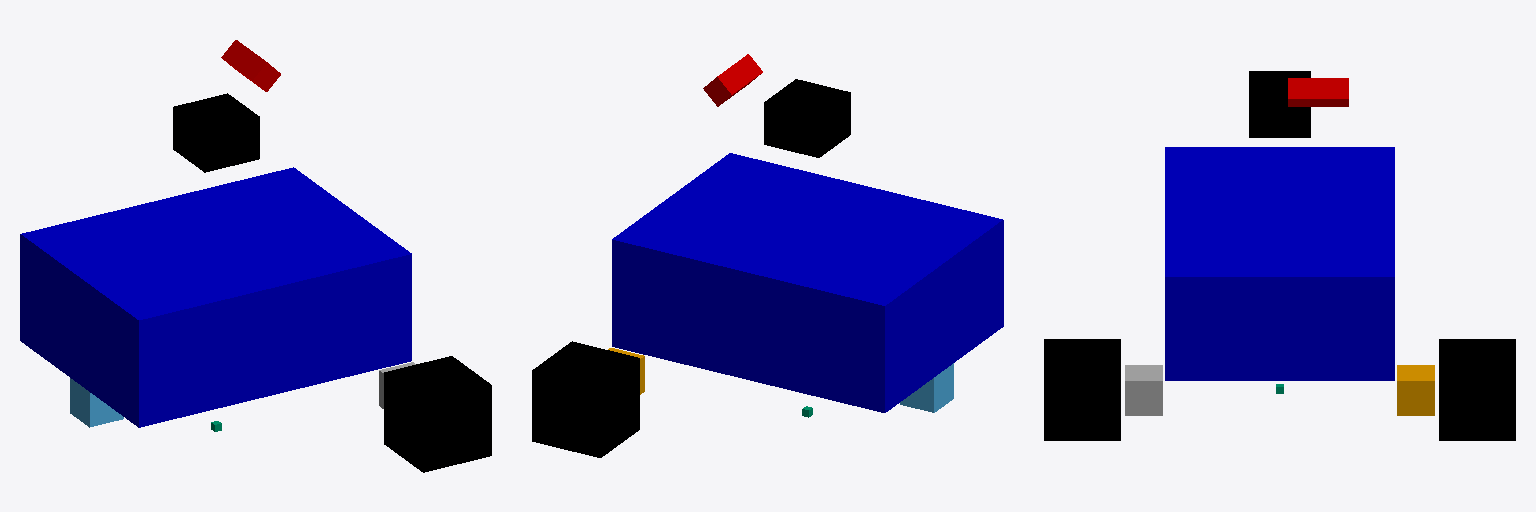
robot.urdf — nano_atrv:
<?xml version="1.0"?>
<robot name="nano_atrv">

    <link name="base_link">
        <visual>
            <geometry>
                <box size="0.4 0.3 0.15"/>
            </geometry>
            <material name="blue">
                <color rgba="0 0 0.8 1"/>
            </material>
        </visual>
    </link>

    <link name="base_link_arm">
        <visual>
            <geometry>
                <box size="0.05 0.05 0.1"/>
            </geometry>
            <material name="grey">
                <color rgba="0.5 0.5 0.5 1"/>
            </material>
        </visual>
    </link>

    <link name="base_footprint">
        <visual>
            <geometry>
                <box size="0.01 0.01 0.01"/>
            </geometry>
        </visual>
    </link>

    <link name="laser">
        <visual>
            <geometry>
                <box size="0.08 0.08 0.06"/>
            </geometry>
            <material name="black">
                <color rgba="0 0 0 1"/>
            </material>
        </visual>
    </link>

    <link name="camera_link">
        <visual>
            <geometry>
                <box size="0.03 0.08 0.03"/>
            </geometry>
            <material name="red">
                <color rgba="0.8 0 0 1"/>
            </material>
        </visual>
    </link>

    <link name="left_wheel">
        <visual>
            <geometry>
                <box size="0.1 0.1 0.1"/>
            </geometry>
            <material name="black"/>
        </visual>
    </link>

    <link name="right_wheel">
        <visual>
            <geometry>
                <box size="0.1 0.1 0.1"/>
            </geometry>
            <material name="black"/>
        </visual>
    </link>

    <link name="right_wheel_link">
        <visual>
            <geometry>
                <box size="0.05 0.05 0.05"/>
            </geometry>
        </visual>
    </link>

    <link name="left_wheel_link">
        <visual>
            <geometry>
                <box size="0.05 0.05 0.05"/>
            </geometry>
        </visual>
    </link>

    <link name="rear_wheel_link">
        <visual>
            <geometry>
                <box size="0.05 0.05 0.05"/>
            </geometry>
        </visual>
    </link>

    <link name="left_steer_link">
        <visual>
            <geometry>
                <box size="0.05 0.05 0.05"/>
            </geometry>
        </visual>
    </link>

    <link name="right_steer_link">
        <visual>
            <geometry>
                <box size="0.05 0.05 0.05"/>
            </geometry>
        </visual>
    </link>

    <link name="rear_steer_link">
        <visual>
            <geometry>
                <box size="0.05 0.05 0.05"/>
            </geometry>
        </visual>
    </link>

    <joint name="base_footprint_to_base_link" type="fixed">
        <parent link="base_footprint"/>
        <child link="base_link"/>
        <origin xyz="0 0 0.18" rpy="0 0 0"/>
    </joint>

    <joint name="base_link_to_laser" type="fixed">
        <parent link="base_link"/>
        <child link="laser"/>
        <origin xyz="0 0 0.23" rpy="0 3.1415 0"/>
    </joint>

    <joint name="base_link_to_camera_link" type="fixed">
        <parent link="base_link"/>
        <child link="camera_link"/>
        <origin xyz="0.08 0.05 0.285" rpy="0 0.8029 0"/>
    </joint>

    <joint name="base_link_to_arm" type="fixed">
        <parent link="base_link"/>
        <child link="base_link_arm"/>
        <origin xyz="0.145 0 0" rpy="0 0 0"/>
    </joint>

    <joint name="base_link_to_left_steer" type="fixed">
        <parent link="base_link"/>
        <child link="left_steer_link"/>
        <origin xyz="0.175 0.1775 -0.1" rpy="0 0 0"/>
    </joint>

    <joint name="base_link_to_right_steer" type="fixed">
        <parent link="base_link"/>
        <child link="right_steer_link"/>
        <origin xyz="0.175 -0.1775 -0.1" rpy="0 0 0"/>
    </joint>

    <joint name="base_link_to_rear_steer" type="fixed">
        <parent link="base_link"/>
        <child link="rear_steer_link"/>
        <origin xyz="-0.175 0 -0.1" rpy="0 0 0"/>
    </joint>


    <joint name="left_steer_joint" type="revolute">
        <parent link="left_steer_link"/>
        <child link="left_wheel_link"/>
        <origin xyz="0 0 0" rpy="0 0 0"/>
        <axis xyz="0 0 1"/>
        <limit lower="-1.57" upper="1.57" effort="10" velocity="2"/>
    </joint>

    <joint name="right_steer_joint" type="revolute">
        <parent link="right_steer_link"/>
        <child link="right_wheel_link"/>
        <origin xyz="0 0 0" rpy="0 0 0"/>
        <axis xyz="0 0 1"/>
        <limit lower="-1.57" upper="1.57" effort="10" velocity="2"/>
    </joint>

    <joint name="rear_steer_joint" type="revolute">
        <parent link="rear_steer_link"/>
        <child link="rear_wheel_link"/>
        <origin xyz="0 0 0" rpy="0 0 0"/>
        <axis xyz="0 0 1"/>
        <limit lower="-3.1415" upper="3.1415" effort="10" velocity="2"/>
    </joint>


    <joint name="left_wheel_joint" type="continuous">
        <parent link="left_wheel_link"/>
        <child link="left_wheel"/>
        <origin xyz="0 0.08 0" rpy="0 0 1.5708"/>
        <axis xyz="-1 0 0"/>
    </joint>

    <joint name="right_wheel_joint" type="continuous">
        <parent link="right_wheel_link"/>
        <child link="right_wheel"/>
        <origin xyz="0 -0.08 0" rpy="0 0 -1.5708"/>
        <axis xyz="1 0 0"/>
    </joint>

</robot>

--- Facts derived from the render (not from the file) ---
3 views of the same robot in one strip: view 1: azimuth 30°, elevation 25°; view 2: azimuth 150°, elevation 25°; view 3: azimuth 270°, elevation 25° (orthographic).
Model nano_atrv with 13 links and 12 joints (3 revolute, 2 continuous, 7 fixed), rooted at base_footprint, posed every joint at zero.
Visible links, largest first — view 1: base_link, right_wheel, laser, camera_link, rear_wheel_link; view 2: base_link, left_wheel, laser, camera_link, rear_wheel_link; view 3: base_link, left_wheel, right_wheel, laser, right_wheel_link, left_wheel_link, camera_link.
Boxes of the visible links, left/top/right/bottom form: base_link: left=20, top=167, right=411, bottom=427; right_wheel: left=384, top=356, right=491, bottom=472; laser: left=173, top=93, right=259, bottom=172; camera_link: left=221, top=40, right=280, bottom=91; rear_wheel_link: left=70, top=378, right=123, bottom=427; base_link: left=612, top=153, right=1003, bottom=412; left_wheel: left=532, top=341, right=639, bottom=457; laser: left=764, top=79, right=850, bottom=157; camera_link: left=703, top=54, right=762, bottom=106; rear_wheel_link: left=900, top=363, right=953, bottom=412; base_link: left=1165, top=147, right=1394, bottom=380; left_wheel: left=1439, top=339, right=1515, bottom=440; right_wheel: left=1044, top=339, right=1120, bottom=440; laser: left=1249, top=71, right=1310, bottom=137; right_wheel_link: left=1125, top=365, right=1162, bottom=415; left_wheel_link: left=1397, top=365, right=1434, bottom=415; camera_link: left=1288, top=78, right=1348, bottom=106.
Size in the robot's own frame: 0.425 by 0.615 by 0.4912 metres.
Geometry: primitives only (box / cylinder / sphere), no mesh files.
